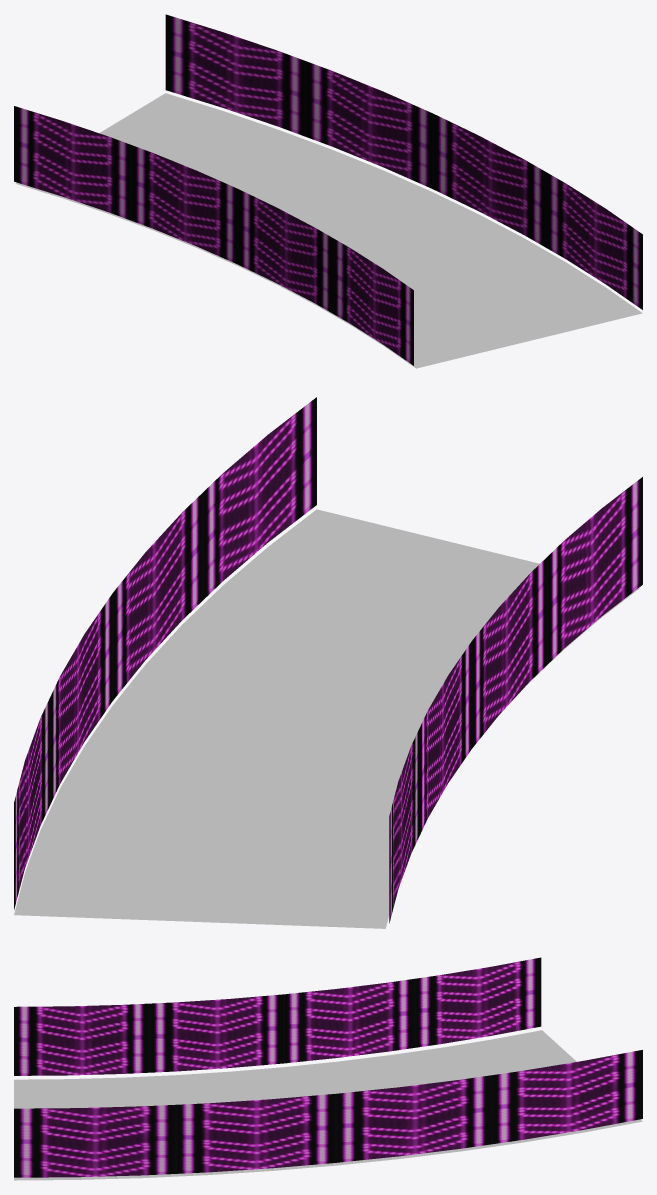
Rendered from road_sign_25_left.FBX.
3 renders of one model, top to bottom at view 1: azimuth 30°, elevation 25°; view 2: azimuth 150°, elevation 25°; view 3: azimuth 270°, elevation 25°, orthographic. The views are drawn at different scales.
Parts seen in each view (by area): view 1: sign, Loft006; view 2: Loft006, sign; view 3: sign, Loft006.
Boxes of the visible parts, x1=… form: sign: x1=14, y1=14, x2=642, y2=365; Loft006: x1=16, y1=93, x2=642, y2=368; Loft006: x1=14, y1=509, x2=639, y2=928; sign: x1=14, y1=397, x2=642, y2=923; sign: x1=14, y1=957, x2=642, y2=1177; Loft006: x1=14, y1=1030, x2=642, y2=1180.
Bounding box in the file's own units: 59.95 × 105 × 13.28.
